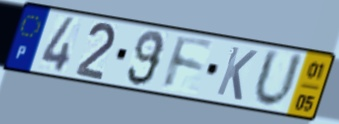2: (74, 22, 117, 82)
4: (39, 15, 75, 74)
9: (125, 29, 166, 89)
F: (161, 33, 215, 92)
K: (213, 44, 260, 103)
U: (251, 46, 306, 111)
